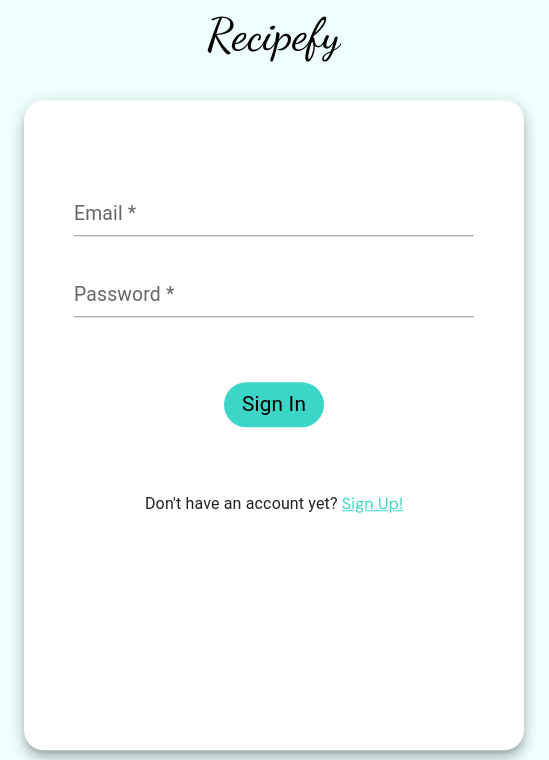
Scenario: Auth forms tests › SignInForm tests › throws validation errors when no inputs are passed
This screenshot has width=549, height=760.
Submits the form without passing any inputs
Click the text "Sign In" at (274, 404), box [224, 382, 324, 427]
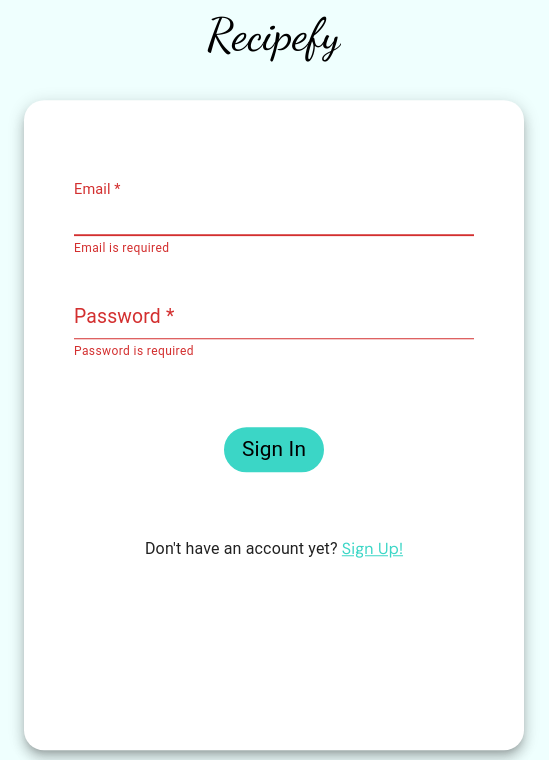
Result: the text "Email is required" is shown at [74, 241, 169, 255]
Result: the text "Password is required" is shown at [74, 345, 194, 359]
